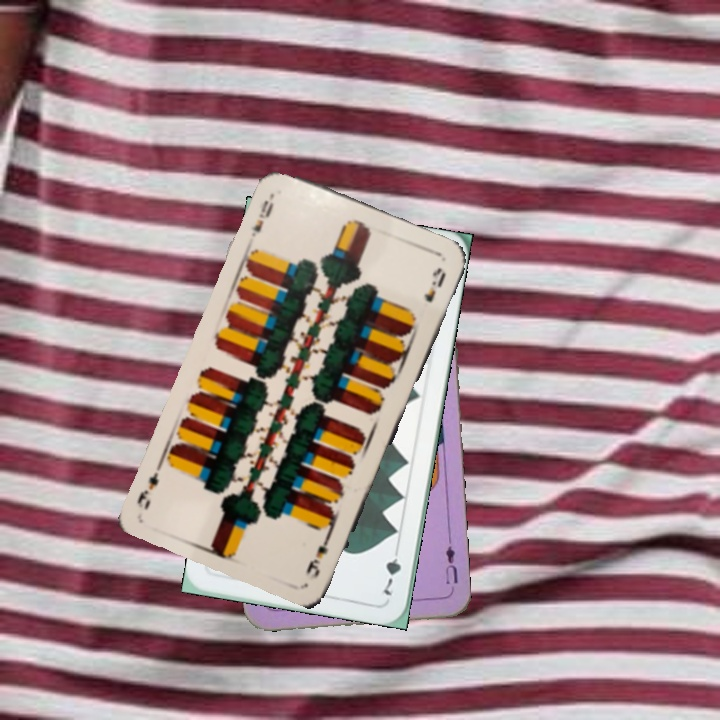E9: (302, 527, 334, 582), (247, 196, 277, 240)
EU: (441, 536, 461, 595)
G7: (379, 541, 404, 598)
